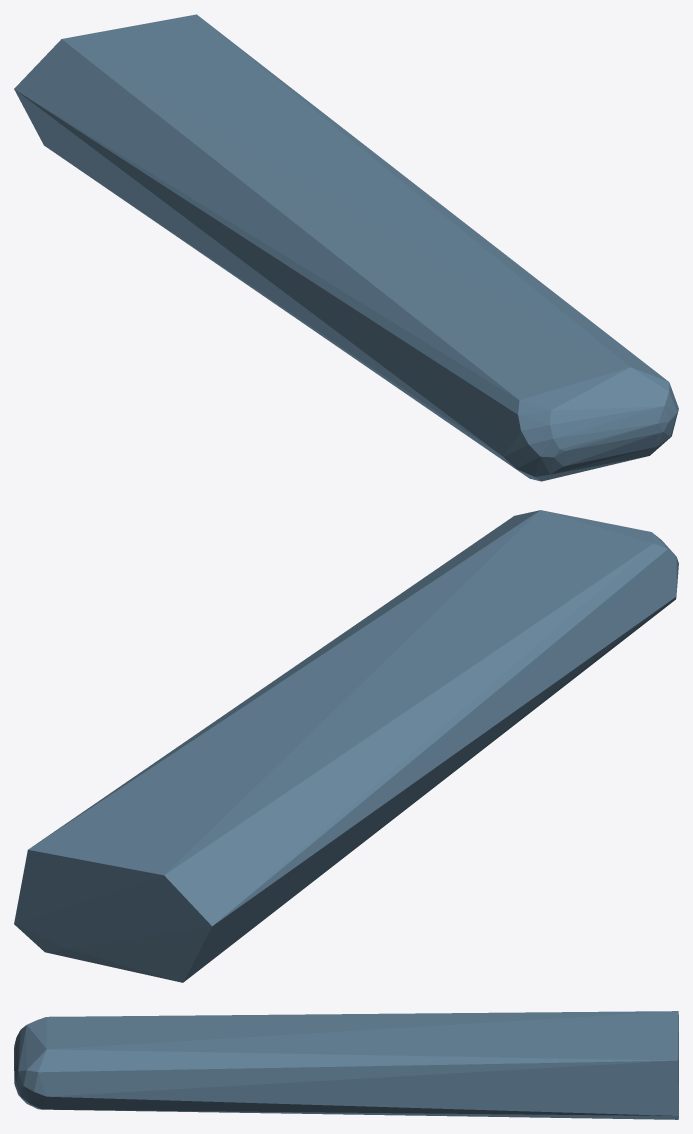
The model's file is medicine_c01.glb.
3 views of the same model, one above another, from view 1: azimuth 30°, elevation 25°; view 2: azimuth 150°, elevation 25°; view 3: azimuth 270°, elevation 25° (orthographic). The views are drawn at different scales.
Visible parts, largest first — view 1: geometry_0; view 2: geometry_0; view 3: geometry_0.
Part boxes in pixels (<box>): geometry_0: <box>14,14,678,481</box>; geometry_0: <box>14,510,678,982</box>; geometry_0: <box>14,1011,678,1119</box>.
Bounding box in the file's own units: 0.1094 × 0.0559 × 0.48.
